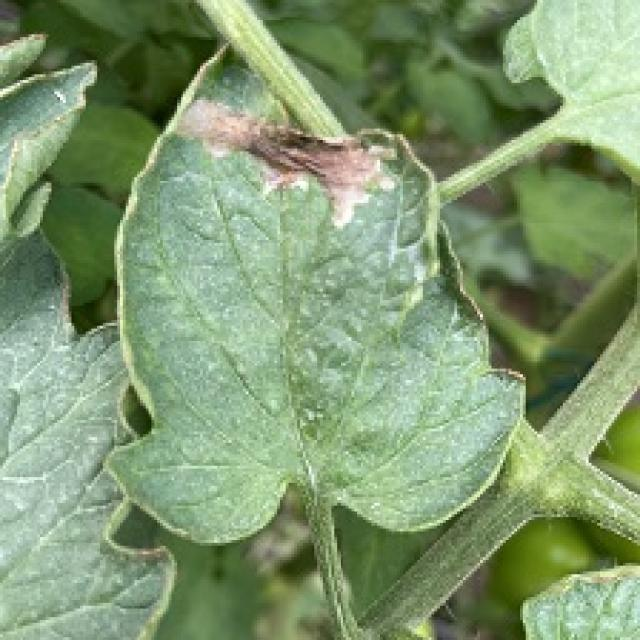Tuta absoluta: (177, 53, 404, 238)
